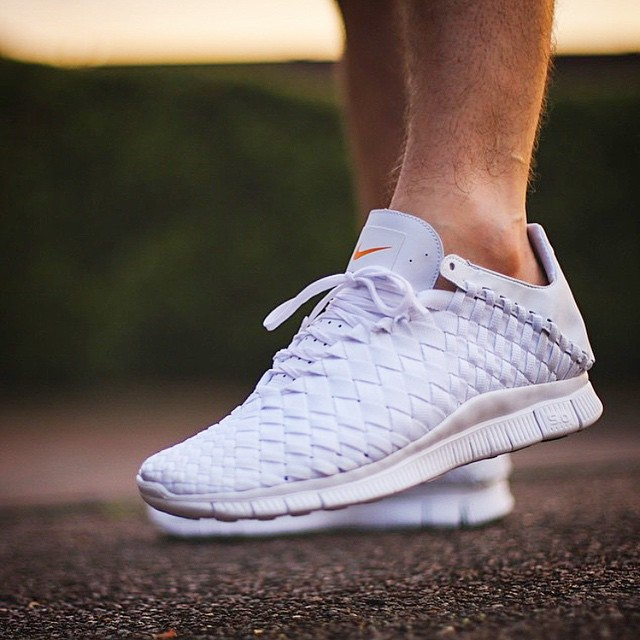sneaker: (122, 166, 628, 553), (135, 444, 527, 540)
